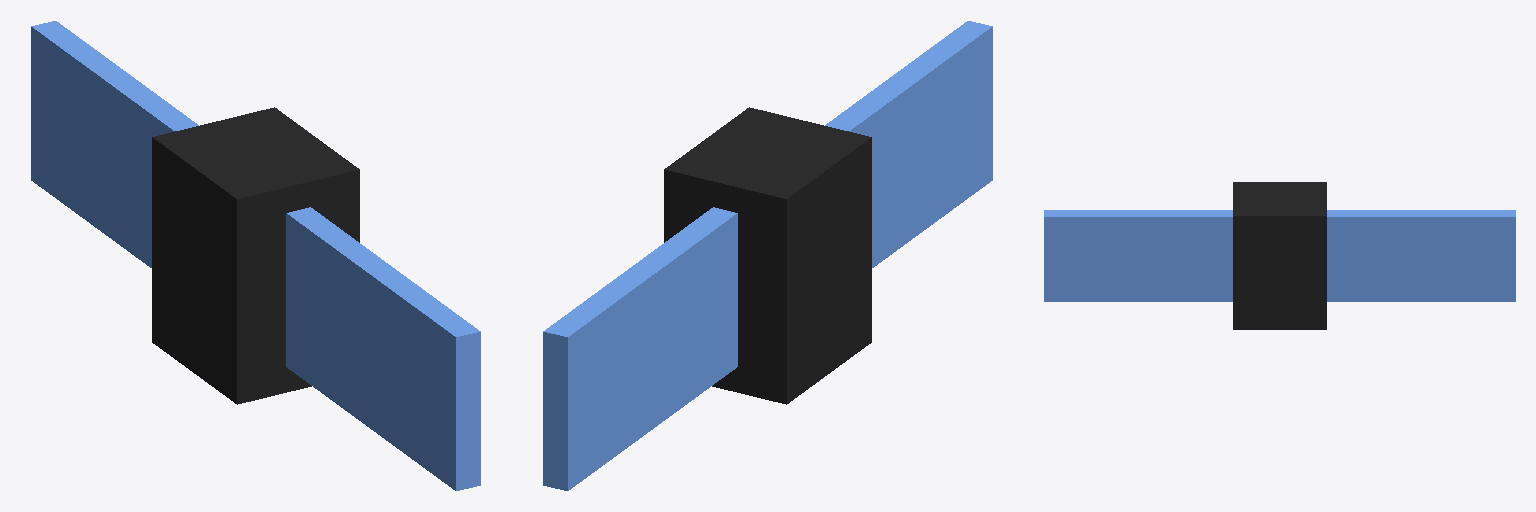
robot.urdf — Chaser:
<?xml version="1.0" ?>

<robot name="Chaser">

  <!-- Colors -->
  <material name="Grey">
    <color rgba="0.2 0.2 0.2 1.0"/>
  </material>
  <material name="Orange">
    <color rgba="1.0 0.423529411765 0.0392156862745 1.0"/>
  </material>
  <material name="Blue">
  <color rgba="0.5 0.7 1.0 1.0"/>      
  </material>
  <material name="Red">
    <color rgba="1 0 0 1.0"/>      
  </material>

  <!--spacecraft-->
  <link name="spacecraft">
    <inertial>
      <origin rpy="0 0 0" xyz="0 0 0"/>
      <mass value="100"/>
      <inertia ixx="0" ixy="0" ixz="0" iyy="0" iyz="0" izz="0"/>
    </inertial>
    <visual>
      <origin rpy="0 0 0" xyz="0 0 0"/>
      <geometry>
        <box size="1.25 1.5 2" />
      </geometry>
      <material name="Grey"/>
    </visual>
  </link>
  <!-- Joint to Left Solar Panel -->
  <joint name="spacecraft_left_panel" type="fixed">
    <parent link="spacecraft"/>
    <child link="left_panel"/>
    <origin rpy="0 0 0" xyz="0 -0.75 0"/>
    <axis xyz="0 0 1"/>
  </joint>
  <!-- Joint to Right Solar Panel -->
  <joint name="spacecraft_right_panel" type="fixed">
    <parent link="spacecraft"/>
    <child link="right_panel"/>
    <origin rpy="0 0 0" xyz="0 0.75 0"/>
    <axis xyz="0 0 1"/>
  </joint>

  <!-- Left Solar Panel-->
  <link name="left_panel">
    <inertial>
      <origin rpy="0 0 0" xyz="0 -1.5 0"/>
      <mass value="20"/>
      <inertia ixx="0" ixy="0" ixz="0" iyy="0" iyz="0" izz="0"/>
    </inertial>
    <visual>
      <origin rpy="0 0 0" xyz="0 -1.5 0"/>
      <geometry>
        <box size="0.25 3 1.5"/>
      </geometry>
      <material name="Blue"/>
    </visual>
  </link>

  <!-- Right Solar Panel-->
  <link name="right_panel">
    <inertial>
      <origin rpy="0 0 0" xyz="0 1.5 0"/>
      <mass value="20"/>
      <inertia ixx="0" ixy="0" ixz="0" iyy="0" iyz="0" izz="0"/>
    </inertial>
    <visual>
      <origin rpy="0 0 0" xyz="0 1.5 0"/>
      <geometry>
        <box size="0.25 3 1.5"/>
      </geometry>
      <material name="Blue"/>
    </visual>
  </link>
  
</robot>

--- Render facts (derived) ---
3 views of the same robot in one strip: view 1: azimuth 30°, elevation 25°; view 2: azimuth 150°, elevation 25°; view 3: azimuth 270°, elevation 25° (orthographic).
Model Chaser with 3 links and 2 joints (2 fixed), rooted at spacecraft, posed every joint at zero.
Links seen in each view (by area): view 1: spacecraft, left_panel, right_panel; view 2: spacecraft, right_panel, left_panel; view 3: left_panel, right_panel, spacecraft.
Boxes of the visible links, bbox=[...] form: spacecraft: bbox=[152, 107, 359, 404]; left_panel: bbox=[286, 207, 480, 490]; right_panel: bbox=[31, 21, 198, 267]; spacecraft: bbox=[664, 107, 871, 404]; right_panel: bbox=[543, 207, 737, 490]; left_panel: bbox=[825, 21, 992, 267]; left_panel: bbox=[1044, 210, 1232, 301]; right_panel: bbox=[1327, 210, 1515, 301]; spacecraft: bbox=[1233, 182, 1326, 329].
Bounding box of the posed robot: 1.25 × 7.5 × 2 m (x, y, z).
Geometry: primitives only (box / cylinder / sphere), no mesh files.